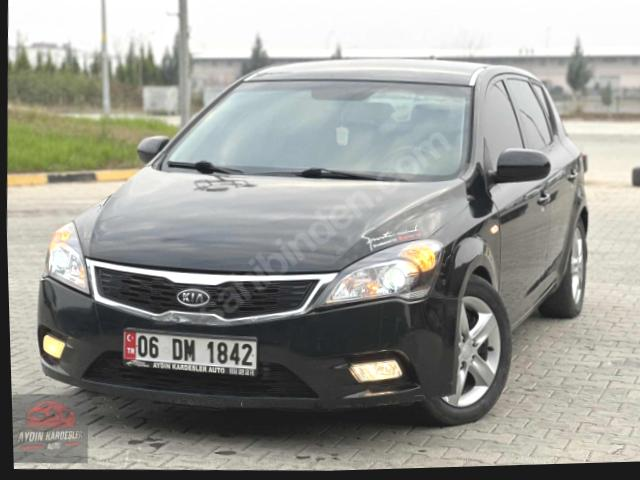plaka: (124, 330, 256, 376)
